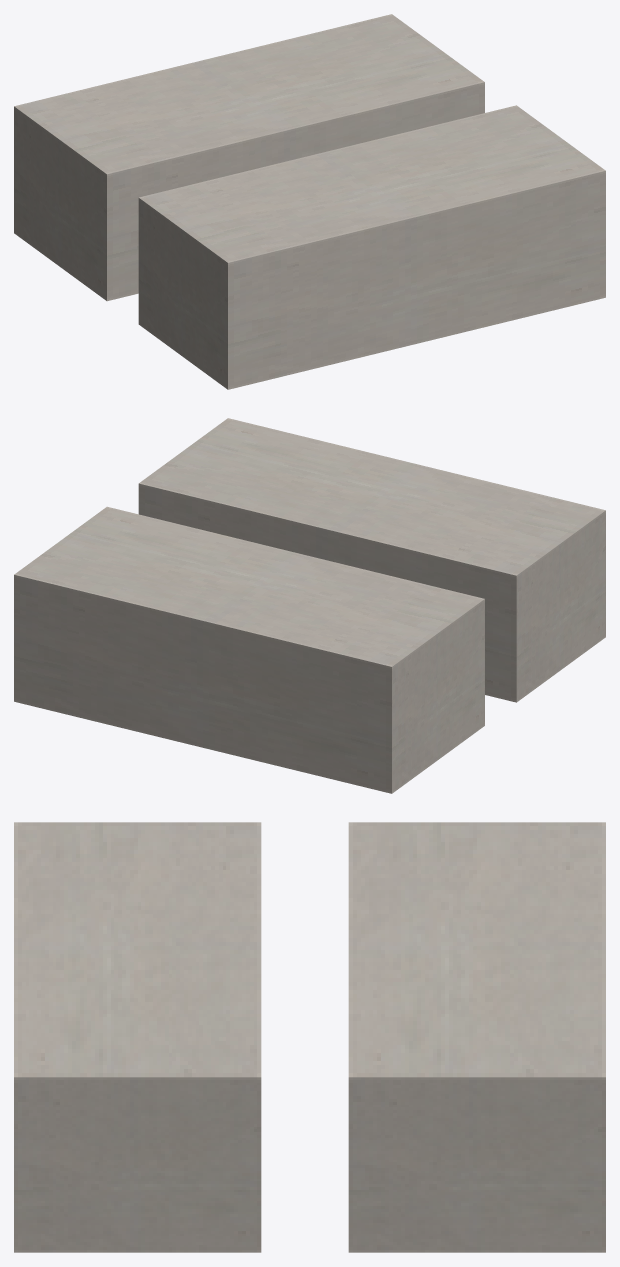
3 views of the same model, one above another, from view 1: azimuth 30°, elevation 25°; view 2: azimuth 150°, elevation 25°; view 3: azimuth 270°, elevation 25° (orthographic). The views are drawn at different scales.
Parts seen in each view (by area): view 1: 300neituji, 500neituji; view 2: 500neituji, 300neituji; view 3: 500neituji, 300neituji.
Part boxes in pixels (bbox=[...]): 300neituji: bbox=[138, 105, 605, 389]; 500neituji: bbox=[14, 14, 484, 301]; 500neituji: bbox=[14, 506, 484, 793]; 300neituji: bbox=[138, 418, 605, 702]; 500neituji: bbox=[348, 822, 605, 1252]; 300neituji: bbox=[14, 822, 261, 1252].
Size of the model in its own units: 8.51 by 2.73 by 8.35.
Materials: 1 (1 with a texture image).
